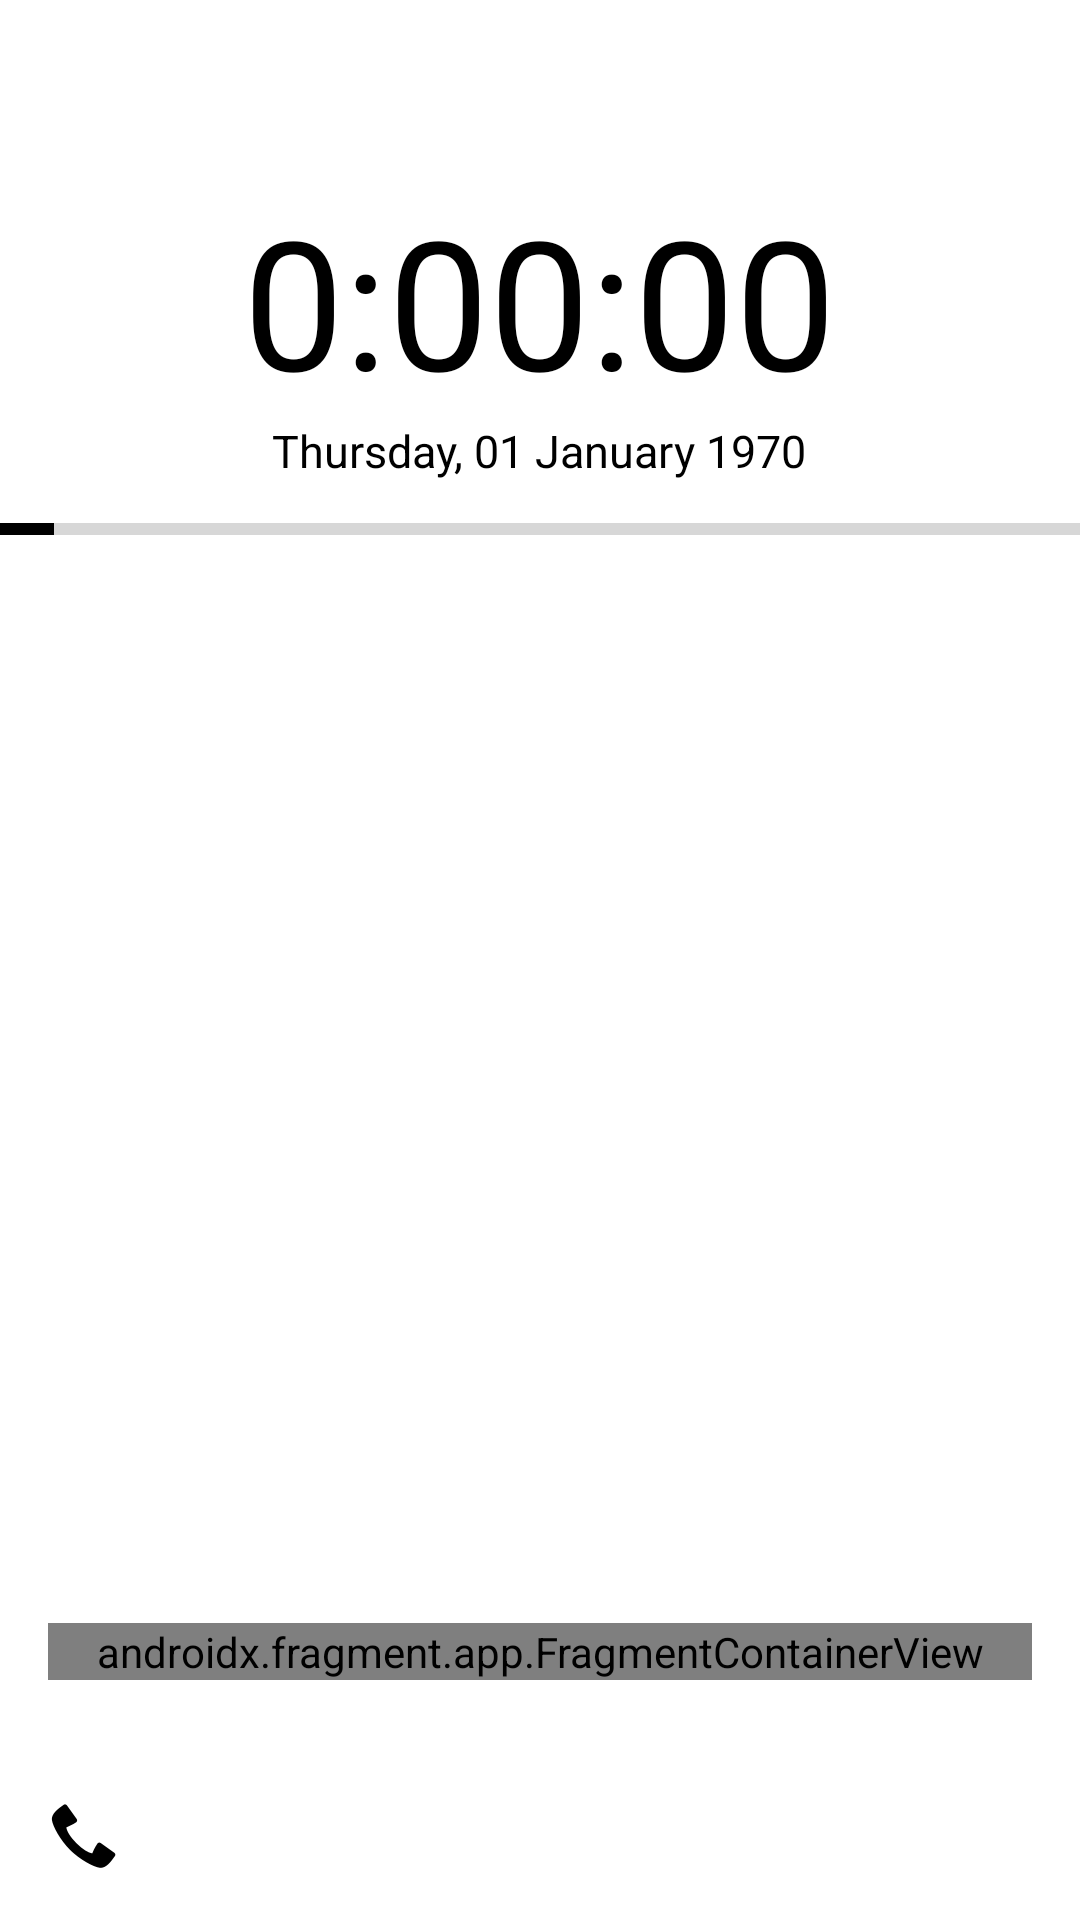

Screen size 1080px×1920px. Icon name, then its center in pixels as (x,y):
phone call: (84,1836)
